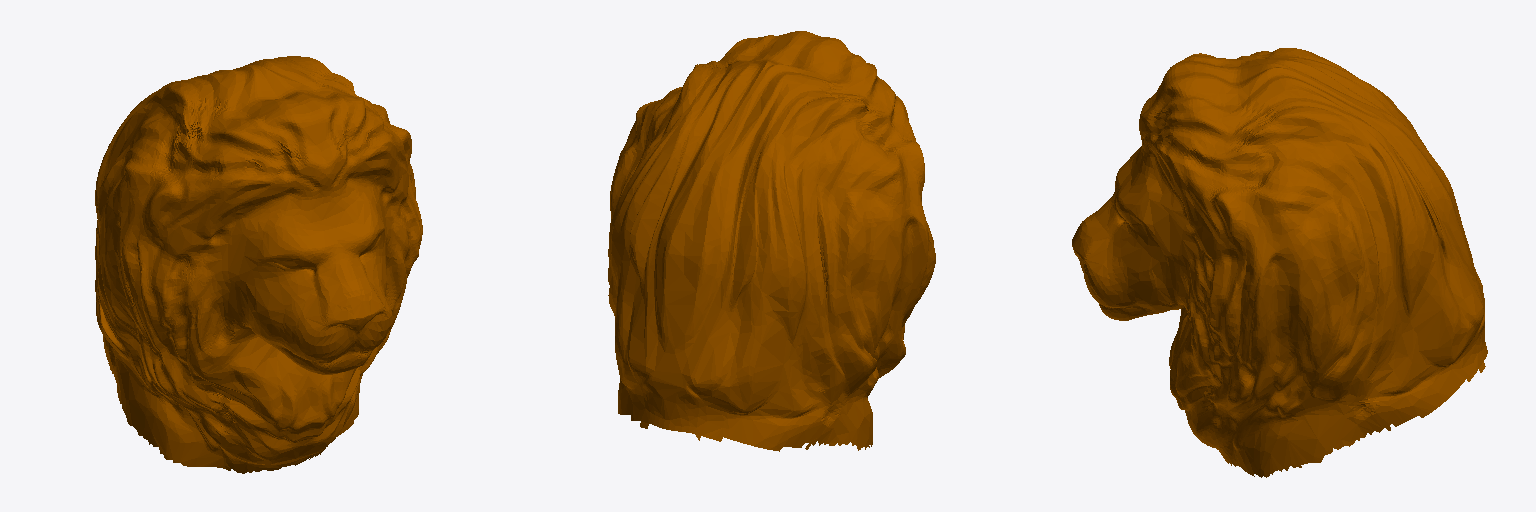
The model's file is lion.obj.
3 renders of one model, left to right at view 1: azimuth 30°, elevation 25°; view 2: azimuth 150°, elevation 25°; view 3: azimuth 270°, elevation 25°, orthographic.
Visible parts, largest first — view 1: lion; view 2: lion; view 3: lion.
Part boxes in pixels (x1,y1,x2,y2): lion: (95,56,422,473); lion: (608,31,935,451); lion: (1072,48,1487,477).
Bounding box in the file's own units: 0.5486 × 0.6717 × 0.6661.